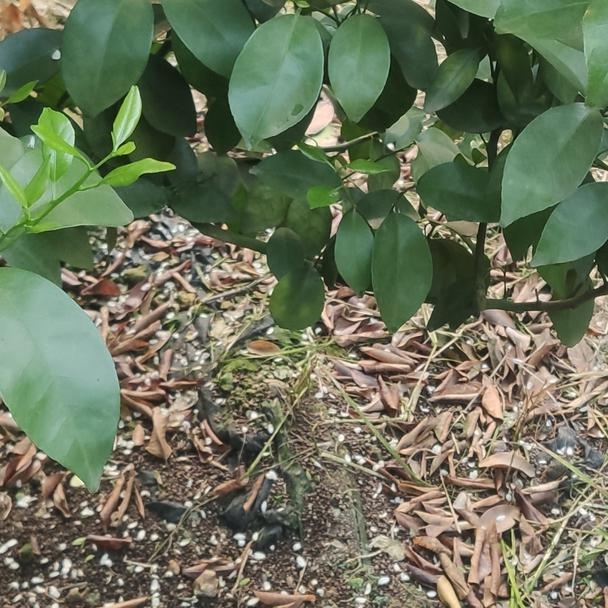shoot: (2, 96, 166, 252)
